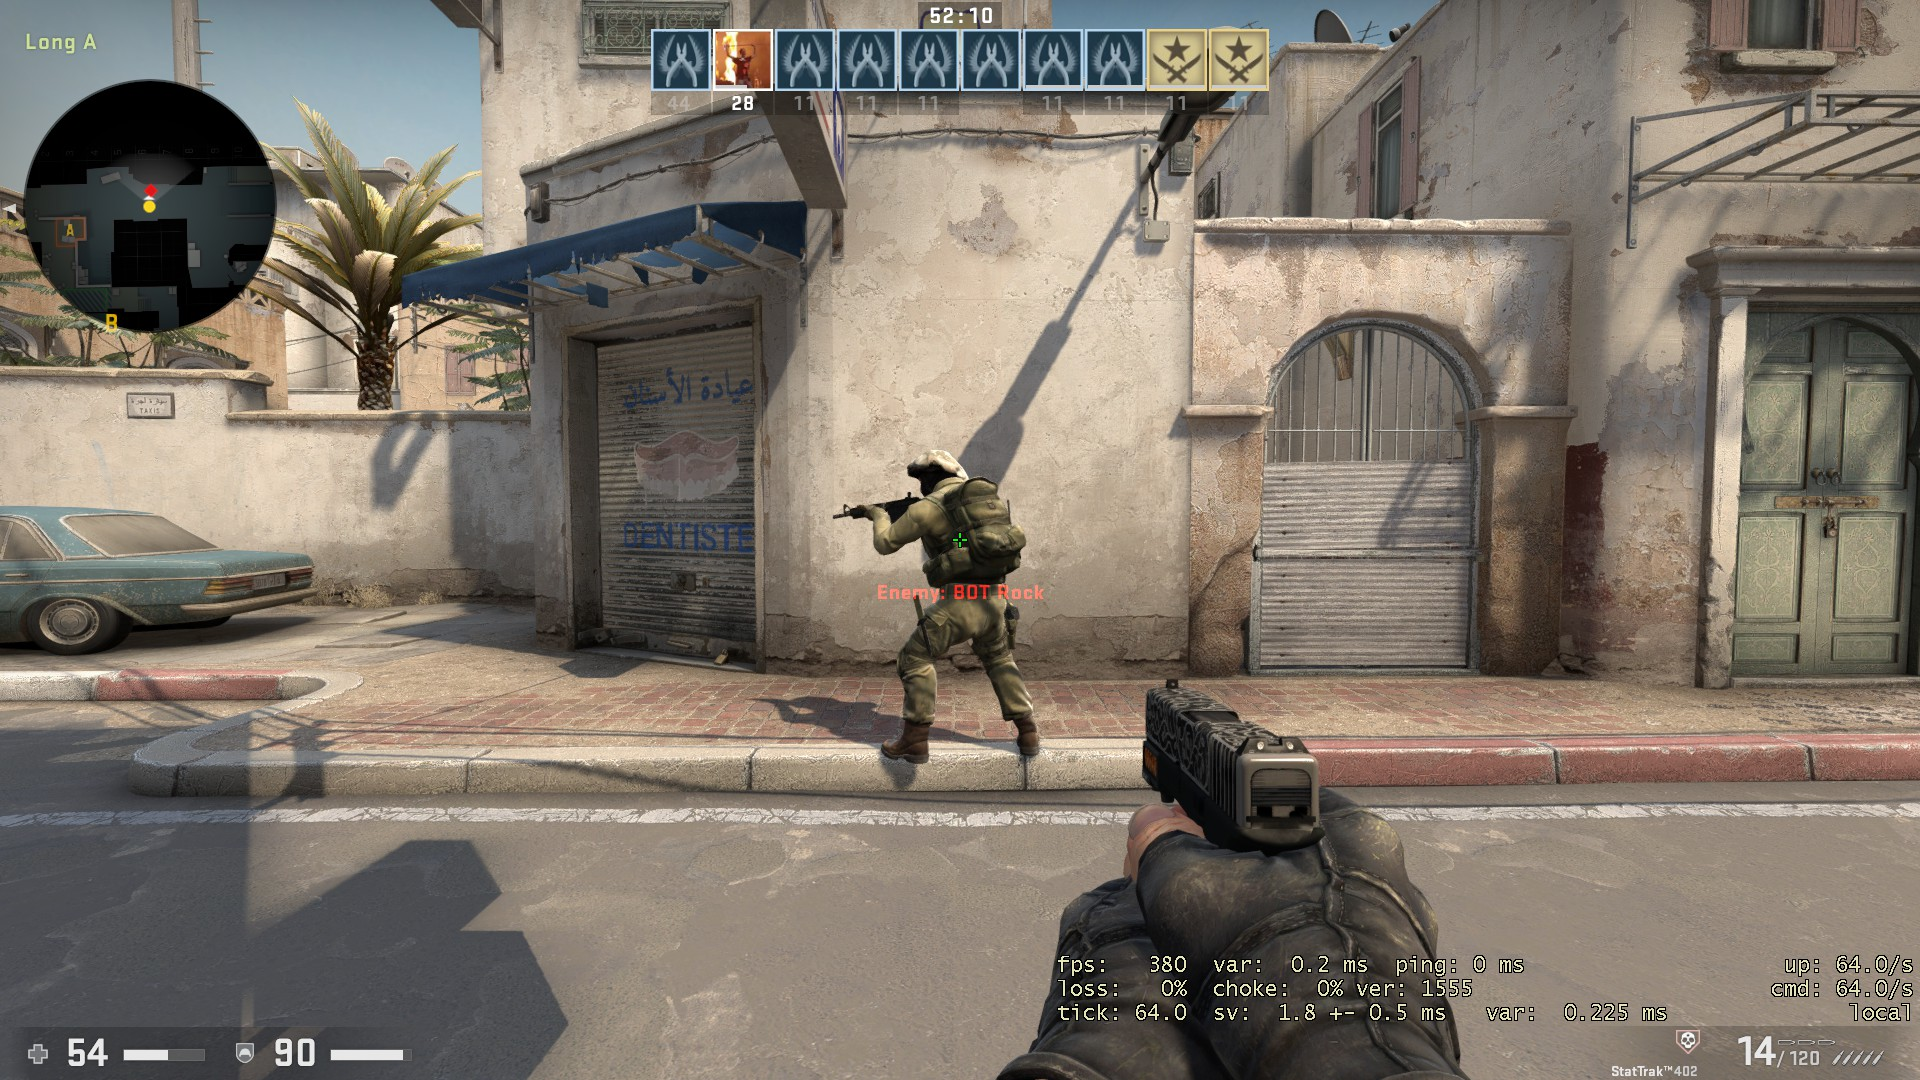ct: (824, 437, 1052, 774)
player: (821, 438, 1051, 777)
